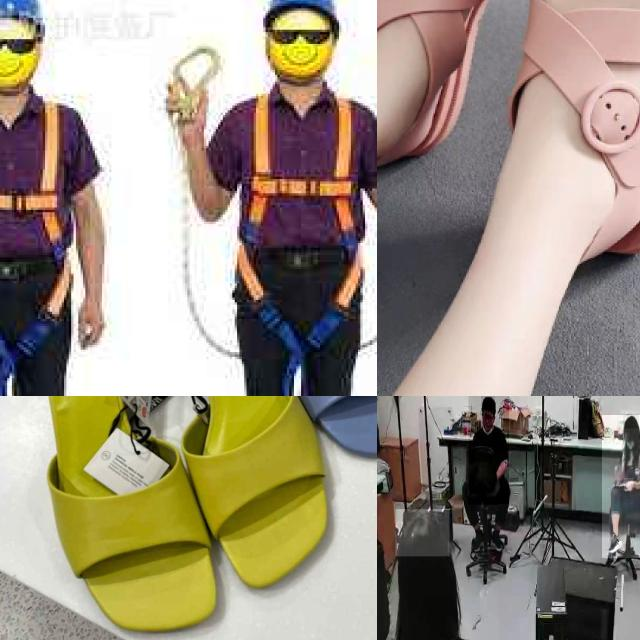Harness: (230, 86, 367, 362), (0, 94, 75, 364)
Sandals: (14, 396, 347, 640), (377, 0, 640, 271)
face_nomask: (482, 411, 494, 431)
hand_noglove: (624, 478, 634, 492)
head_nohelmet: (396, 509, 450, 557), (623, 414, 639, 429), (480, 396, 495, 410)
person: (384, 504, 498, 640), (602, 415, 640, 559), (468, 396, 509, 504)
shoes: (607, 529, 623, 556), (472, 526, 486, 554), (490, 528, 503, 552)
